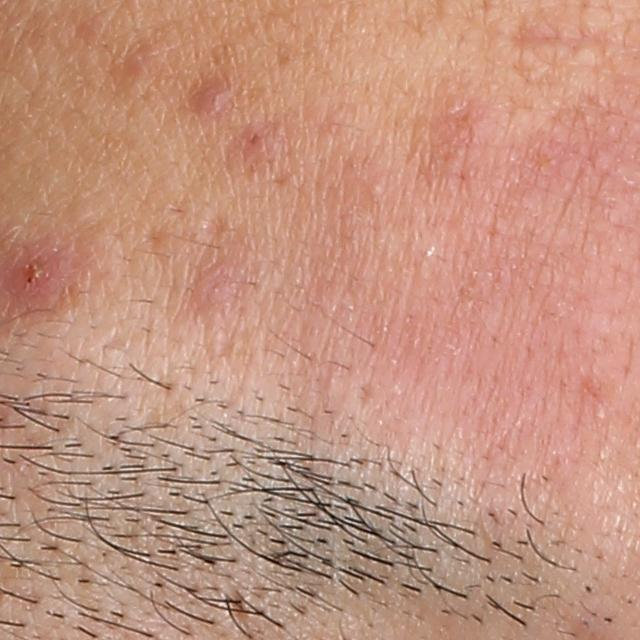atrophic_scar: (203, 210, 225, 241)
comedo: (366, 182, 387, 199)
papule: (8, 253, 61, 298), (188, 268, 239, 310), (189, 80, 234, 119)
